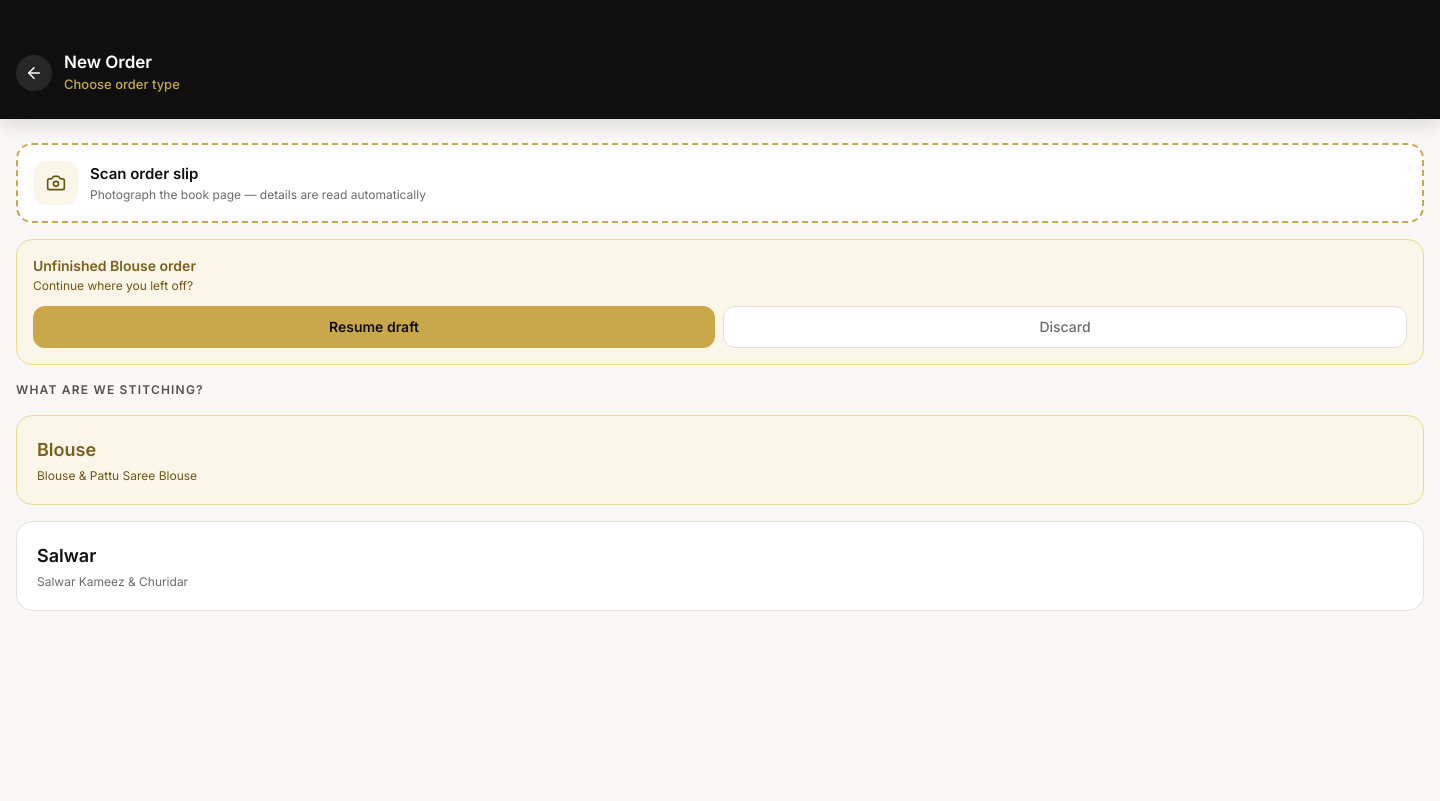
Scenario: NewOrderWizard › dynamic fabrics › opens the fabric manager from the Manage link
Click the text "Blouse": {"x": 67, "y": 449} [37,439,96,460]
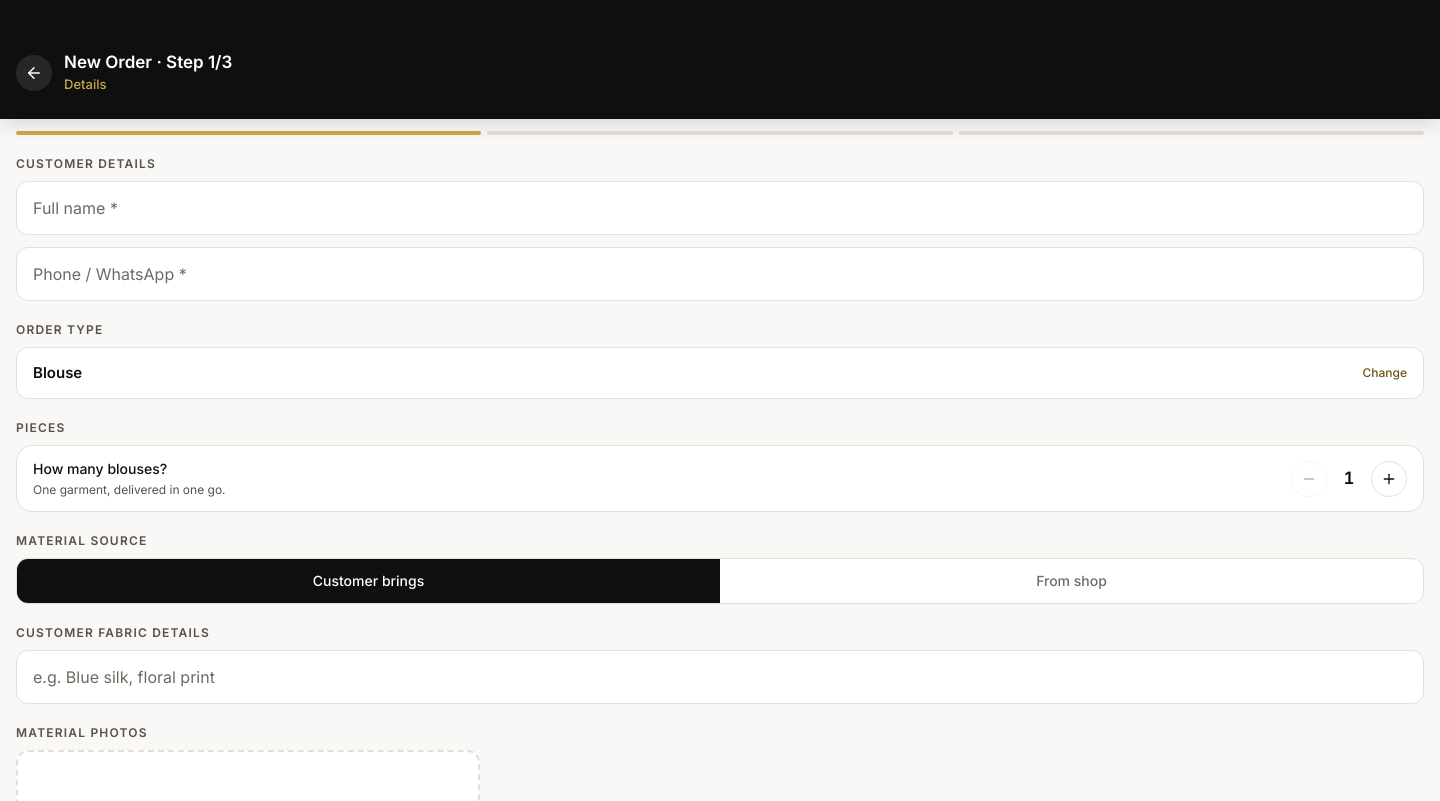
Click the button "From shop": {"x": 1072, "y": 581} [720,559,1423,603]
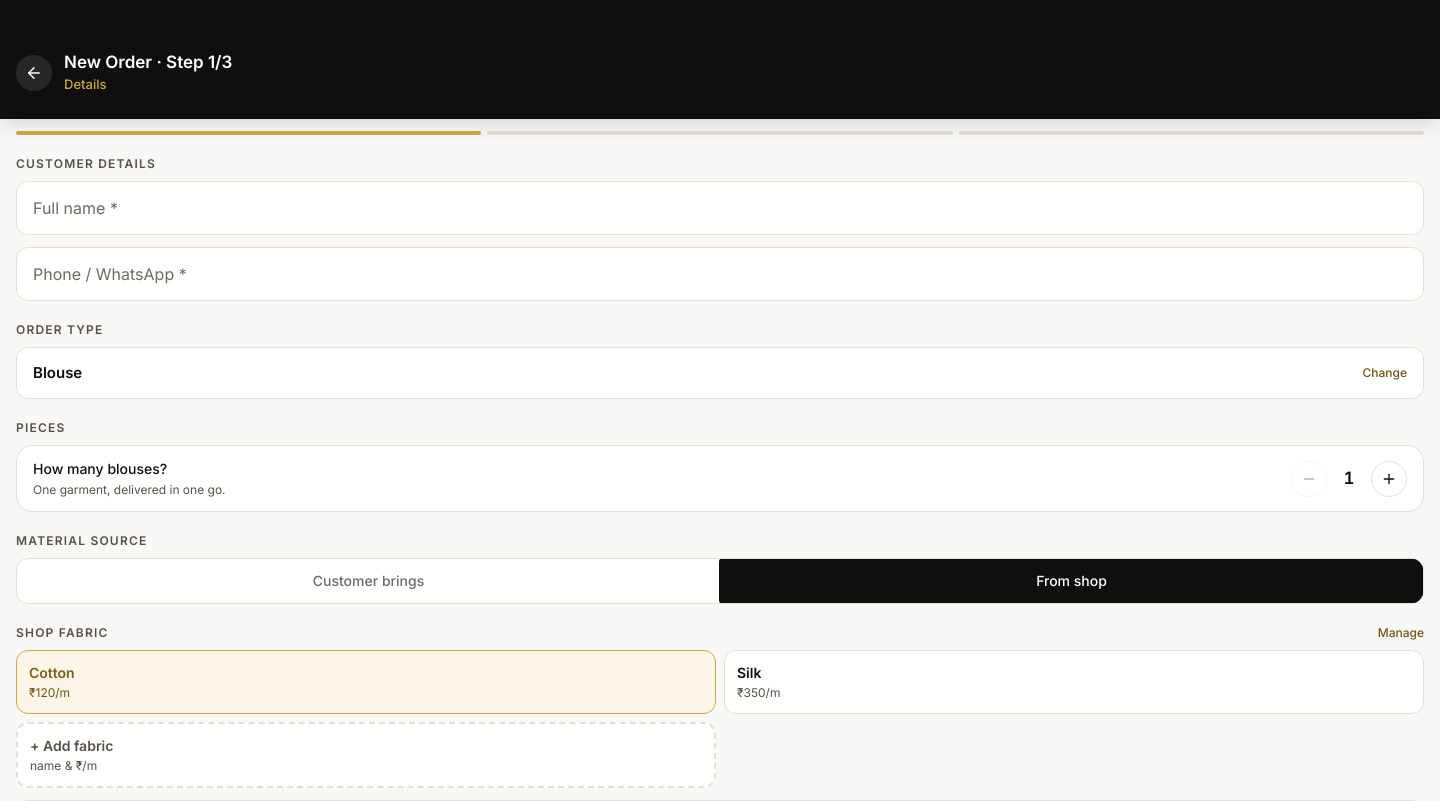
Click the button "Manage": {"x": 1401, "y": 633} [1378,625,1424,641]
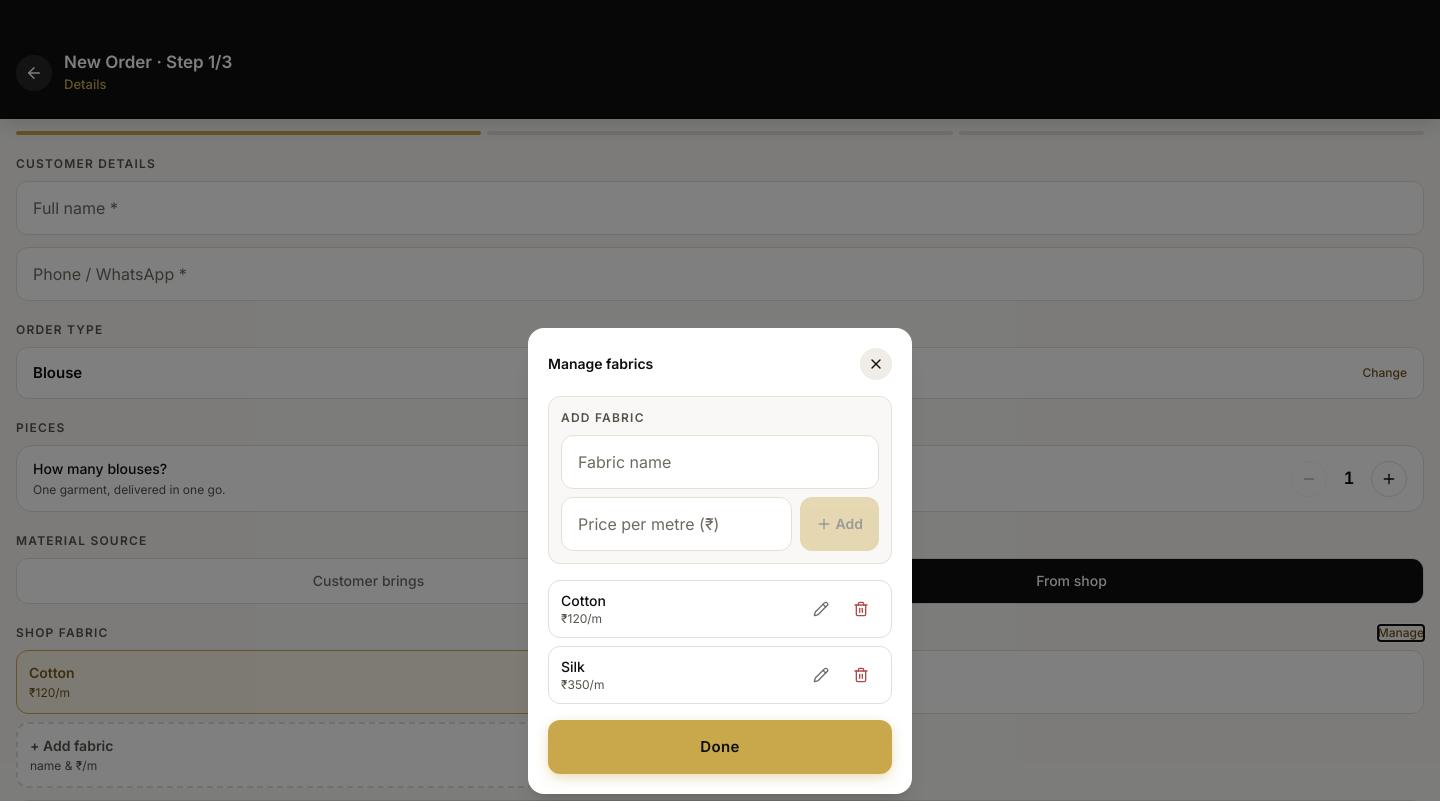
Now the text "Manage fabrics" is shown, box [548,354,653,374]
